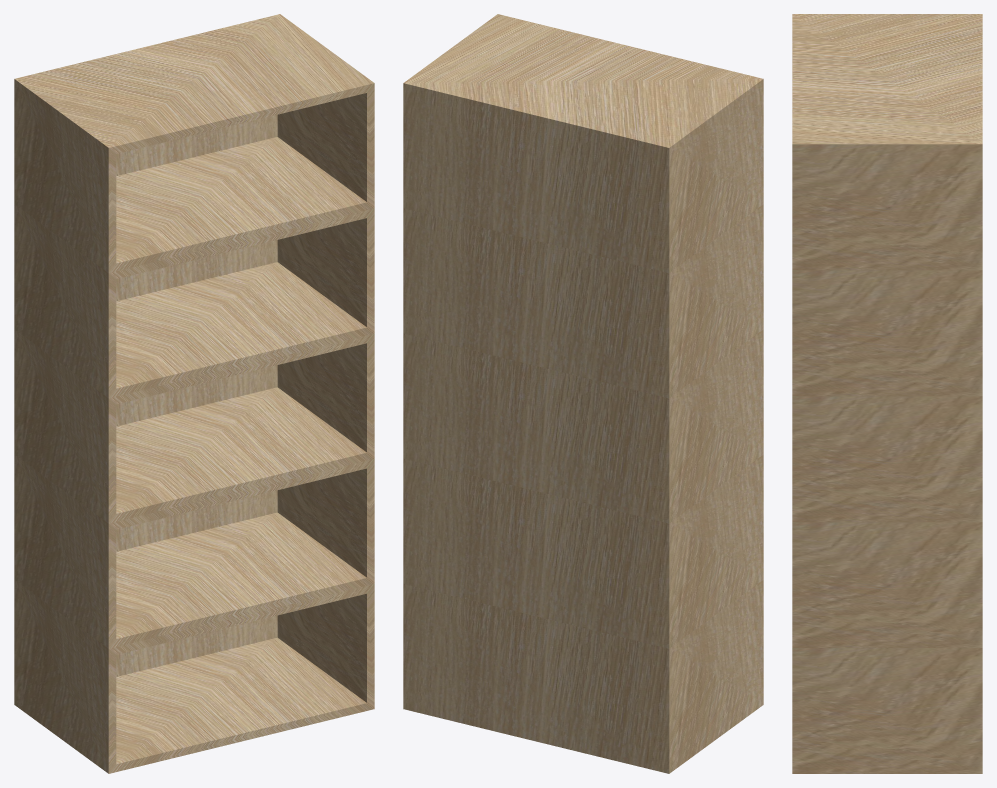
Rendered from Shelf1.fbx.
The picture shows the model from 3 angles, left to right: view 1: azimuth 30°, elevation 25°; view 2: azimuth 150°, elevation 25°; view 3: azimuth 270°, elevation 25°; orthographic projection.
Parts seen in each view (by area): view 1: Shelf1; view 2: Shelf1; view 3: Shelf1.
Boxes of the visible parts, box(x1,y1,x2,y2) form: Shelf1: box(14, 14, 374, 773); Shelf1: box(403, 14, 763, 773); Shelf1: box(792, 14, 982, 773).
Size of the model in its own units: 200 by 450 by 123.
